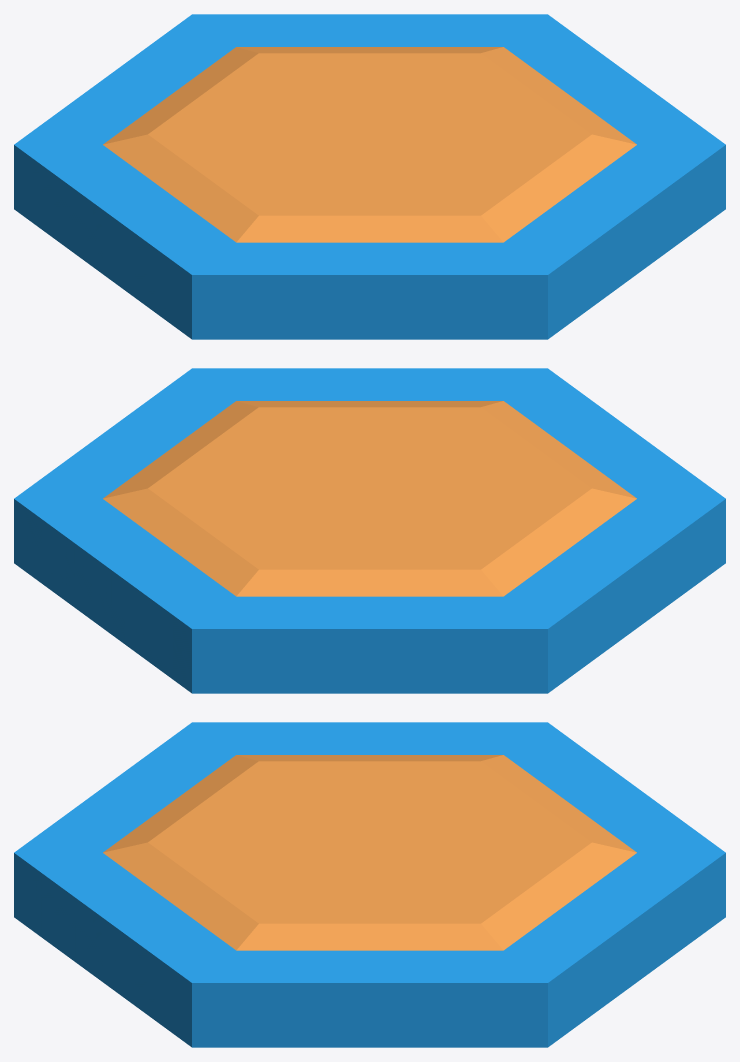
Rendered from TileHex_18.fbx.
3 renders of one model, top to bottom at view 1: azimuth 30°, elevation 25°; view 2: azimuth 150°, elevation 25°; view 3: azimuth 270°, elevation 25°, orthographic.
Visible parts, largest first — view 1: TileHex_18; view 2: TileHex_18; view 3: TileHex_18.
Part boxes in pixels (box(x1,y1,x2,y2)): TileHex_18: box(14, 14, 725, 339); TileHex_18: box(14, 368, 725, 693); TileHex_18: box(14, 722, 725, 1047).
Size of the model in its own units: 433 by 57.97 by 500.
